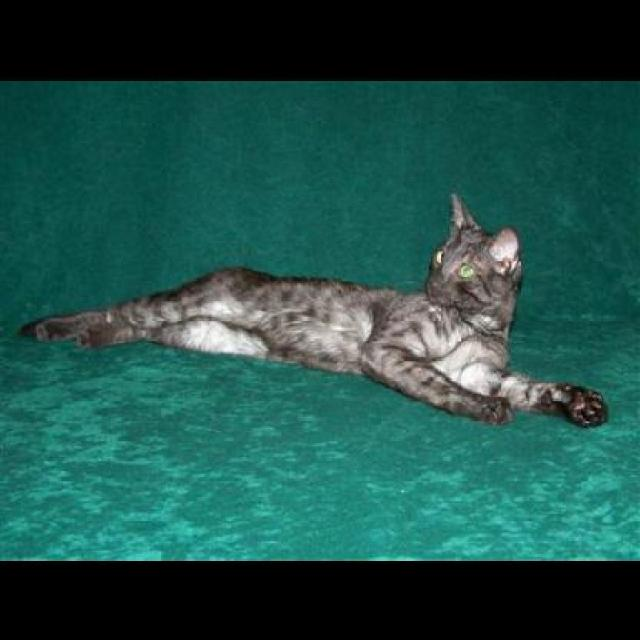unauthorized: (17, 192, 608, 428)
